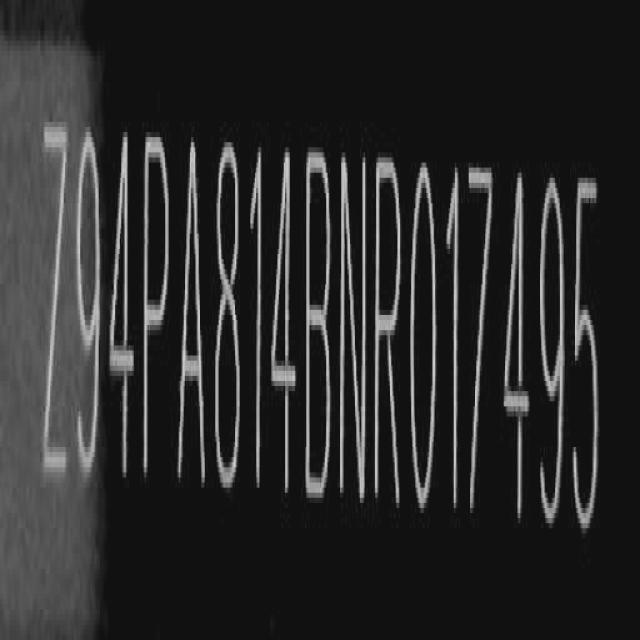0: (409, 158, 440, 522)
1: (247, 143, 267, 500), (444, 168, 463, 516)
4: (272, 140, 301, 502), (109, 123, 137, 495), (502, 169, 530, 538)
5: (574, 168, 602, 544)
7: (464, 155, 492, 528)
8: (213, 140, 242, 496)
9: (537, 173, 570, 538), (74, 126, 103, 493)
A: (179, 126, 210, 494)
B: (305, 146, 336, 505)
N: (341, 147, 370, 510)
P: (138, 126, 171, 494)
R: (375, 150, 407, 516)
Z: (40, 123, 70, 495)
